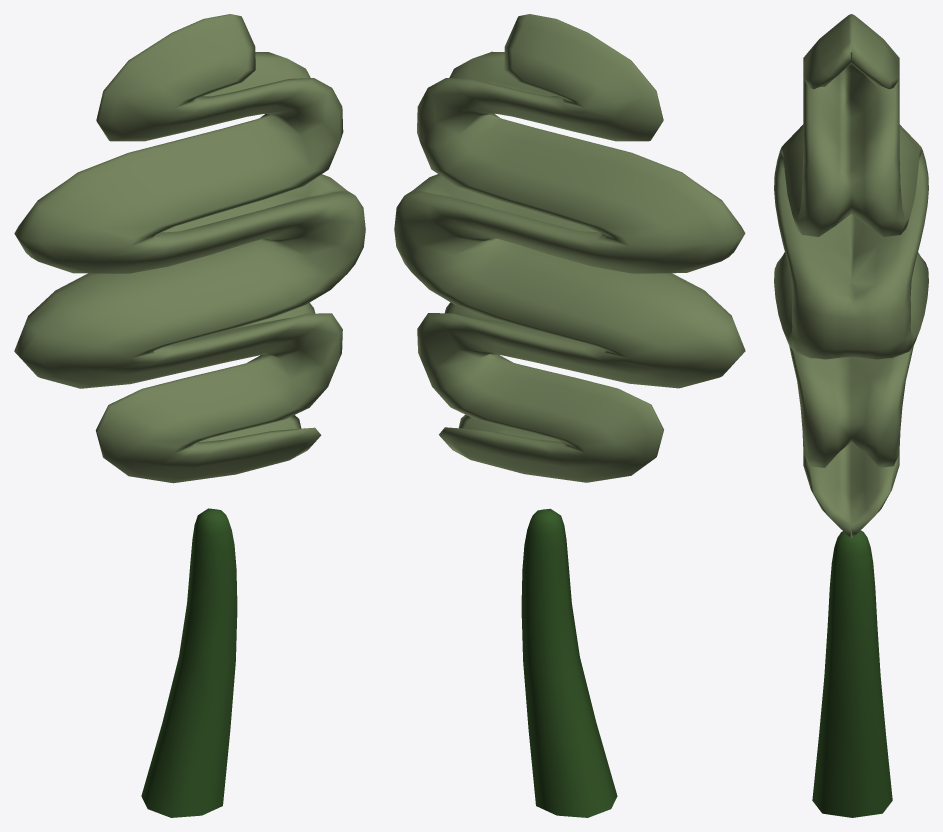
File: quaternius-ultimate-space-pack-tree-floating-1-transformed.glb
The picture shows the model from 3 angles, left to right: view 1: azimuth 30°, elevation 25°; view 2: azimuth 150°, elevation 25°; view 3: azimuth 270°, elevation 25°; orthographic projection.
Parts seen in each view (by area): view 1: Tree_Floating_1; view 2: Tree_Floating_1; view 3: Tree_Floating_1.
Boxes of the visible parts, x1=… form: Tree_Floating_1: x1=14, y1=14, x2=365, y2=817; Tree_Floating_1: x1=394, y1=14, x2=745, y2=817; Tree_Floating_1: x1=774, y1=14, x2=928, y2=817.
Bounding box in the file's own units: 2.09 × 4.61 × 0.8258.
1 material, 1 textured.
